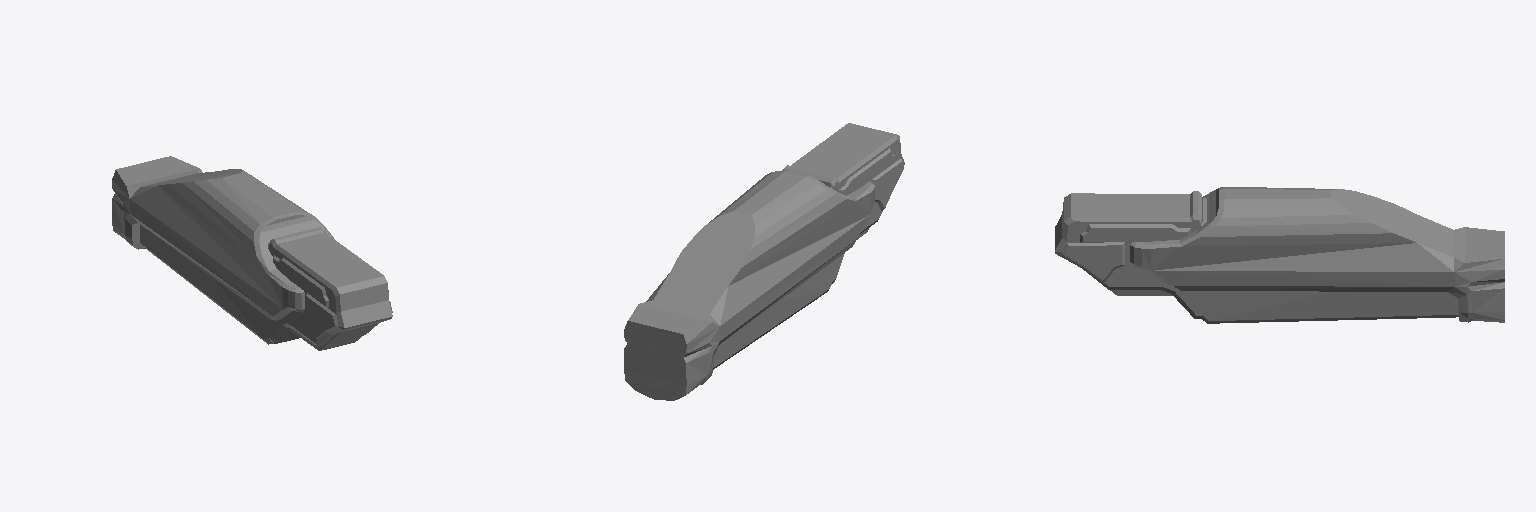
The model's file is body2.obj.
The picture shows the model from 3 angles: view 1: azimuth 30°, elevation 25°; view 2: azimuth 150°, elevation 25°; view 3: azimuth 270°, elevation 25°; orthographic projection.
Parts seen in each view (by area): view 1: body2; view 2: body2; view 3: body2.
Part boxes in pixels (x1,y1,x2,y2): body2: (112, 156, 392, 350); body2: (624, 123, 904, 400); body2: (1055, 187, 1504, 323).
Size of the model in its own units: 4.79 by 7.17 by 23.73.